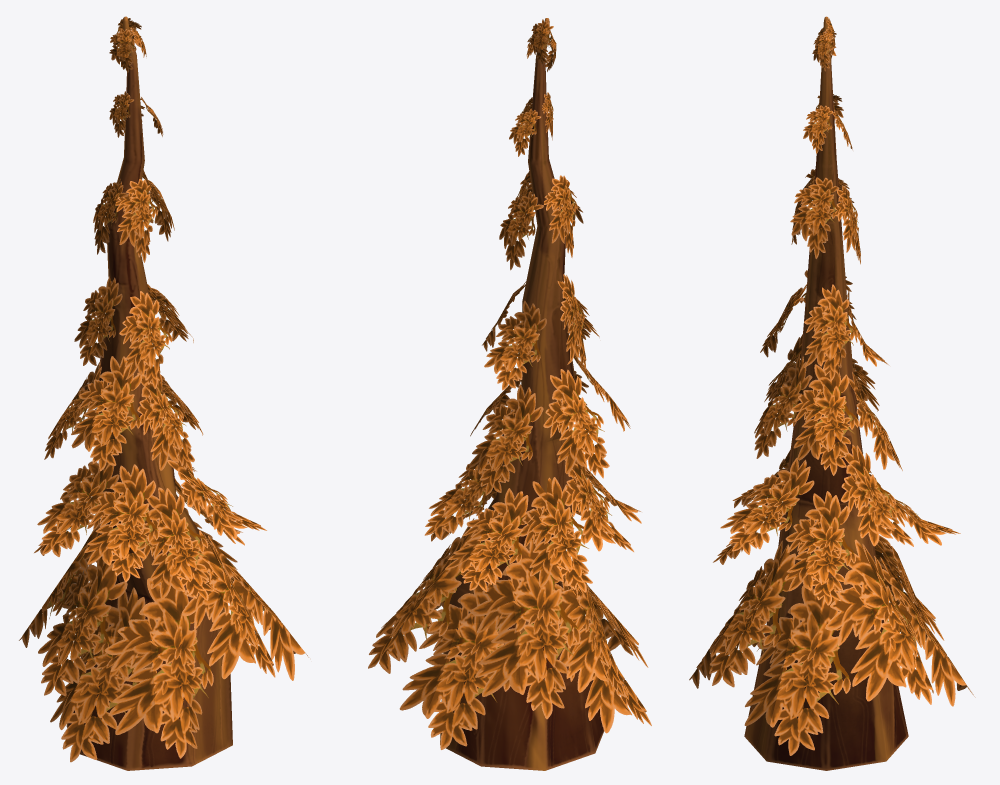
Rendered from 7_Cafe.fbx.
The picture shows the model from 3 angles, left to right: view 1: azimuth 30°, elevation 25°; view 2: azimuth 150°, elevation 25°; view 3: azimuth 270°, elevation 25°; orthographic projection. The views are drawn at different scales.
Parts seen in each view (by area): view 1: 7_Cafe; view 2: 7_Cafe; view 3: 7_Cafe.
Boxes of the visible parts, x1=… form: 7_Cafe: x1=19, y1=16, x2=308, y2=770; 7_Cafe: x1=368, y1=18, x2=651, y2=770; 7_Cafe: x1=689, y1=16, x2=975, y2=770.
Size of the model in its own units: 411 by 1081 by 415.
